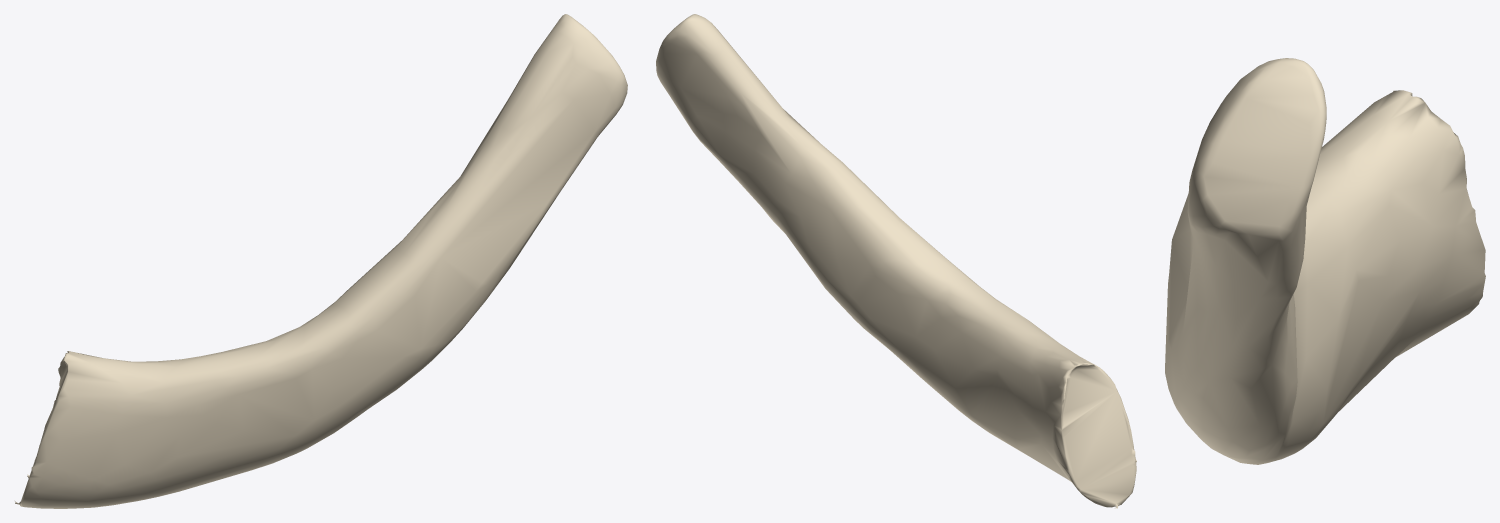
Rendered from costal-cartilage-of-sixth-rib-r.glb.
3 renders of one model, left to right at view 1: azimuth 30°, elevation 25°; view 2: azimuth 150°, elevation 25°; view 3: azimuth 270°, elevation 25°, orthographic. The views are drawn at different scales.
Visible parts, largest first — view 1: Costal cartilage of sixth rib.r; view 2: Costal cartilage of sixth rib.r; view 3: Costal cartilage of sixth rib.r.
Boxes of the visible parts, <box> form: Costal cartilage of sixth rib.r: <box>15,14,627,508</box>; Costal cartilage of sixth rib.r: <box>656,14,1136,508</box>; Costal cartilage of sixth rib.r: <box>1165,58,1485,464</box>.
Size of the model in its own units: 0.0828 by 0.0558 by 0.0229.
